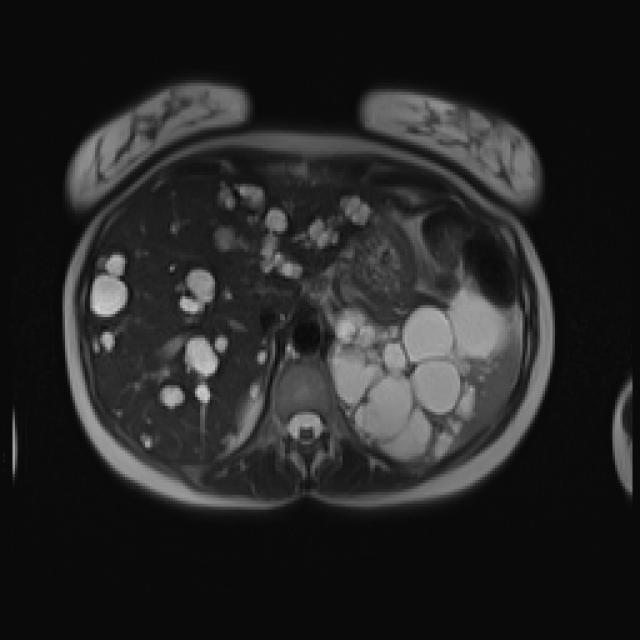sag: (230, 387, 264, 450)
sol: (331, 288, 507, 468)
